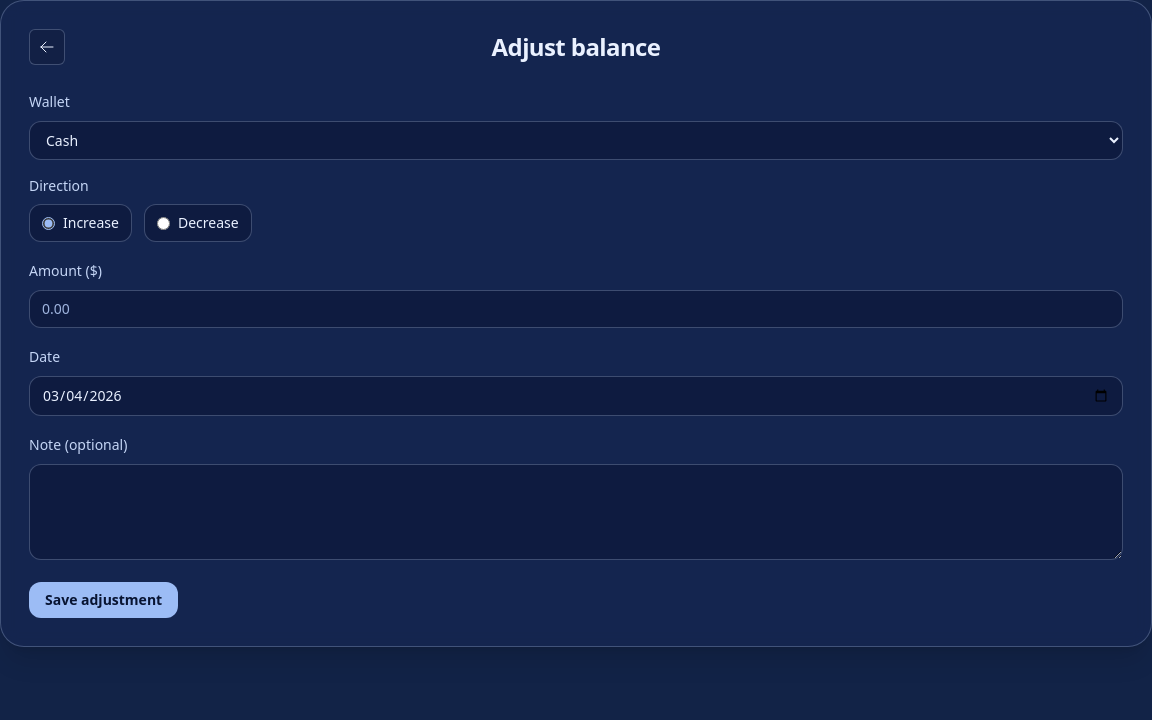
it: AddAdjustmentPage › validates non-zero amount and saves a decrease adjustment transaction
The width and height of the screenshot is (1152, 720).
In the field labelled "Amount ($)": (576, 309) [29,290,1123,328], type "0"
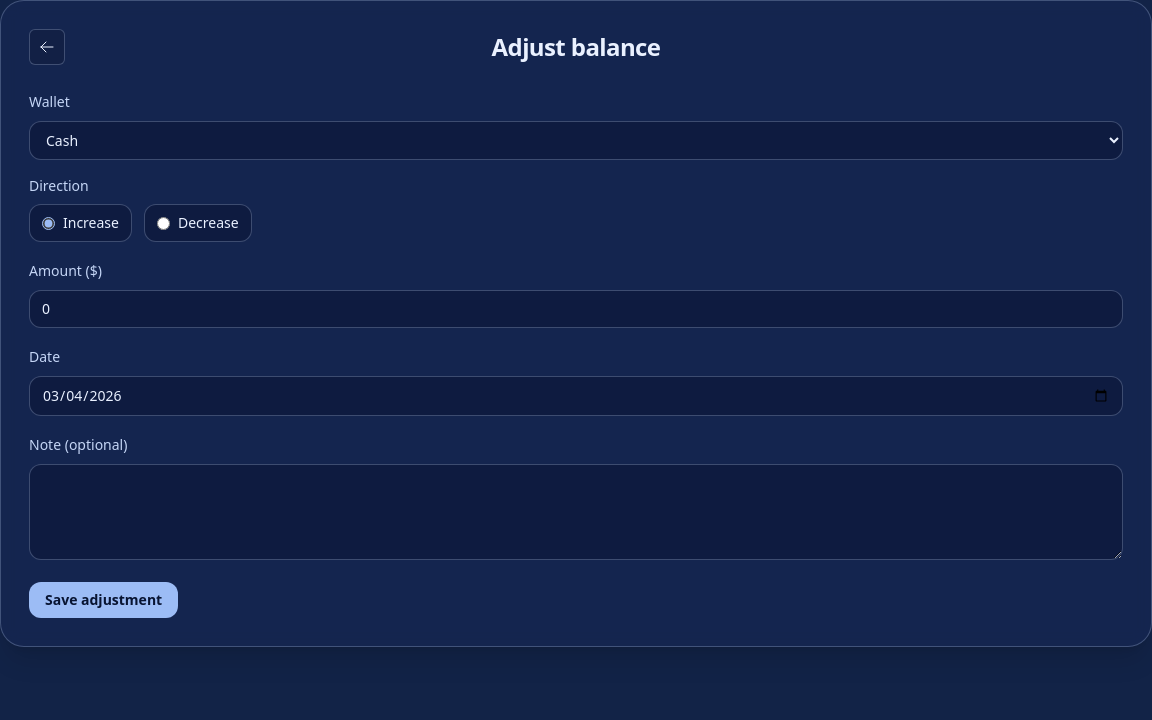
Click the button "Save adjustment": (104, 600) [29,582,178,618]
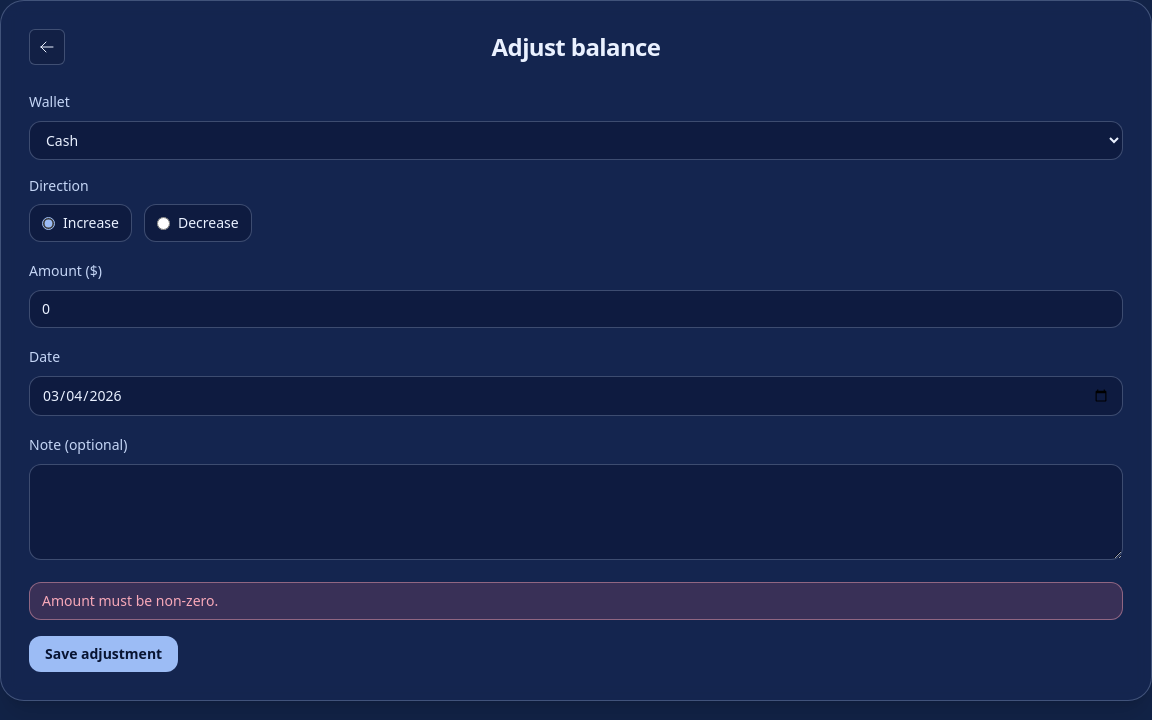
Now the text "Amount must be non-zero." is shown, box [29,582,1123,620]
Click the radio button labelled "Decrease": (164, 223) [157,216,170,230]
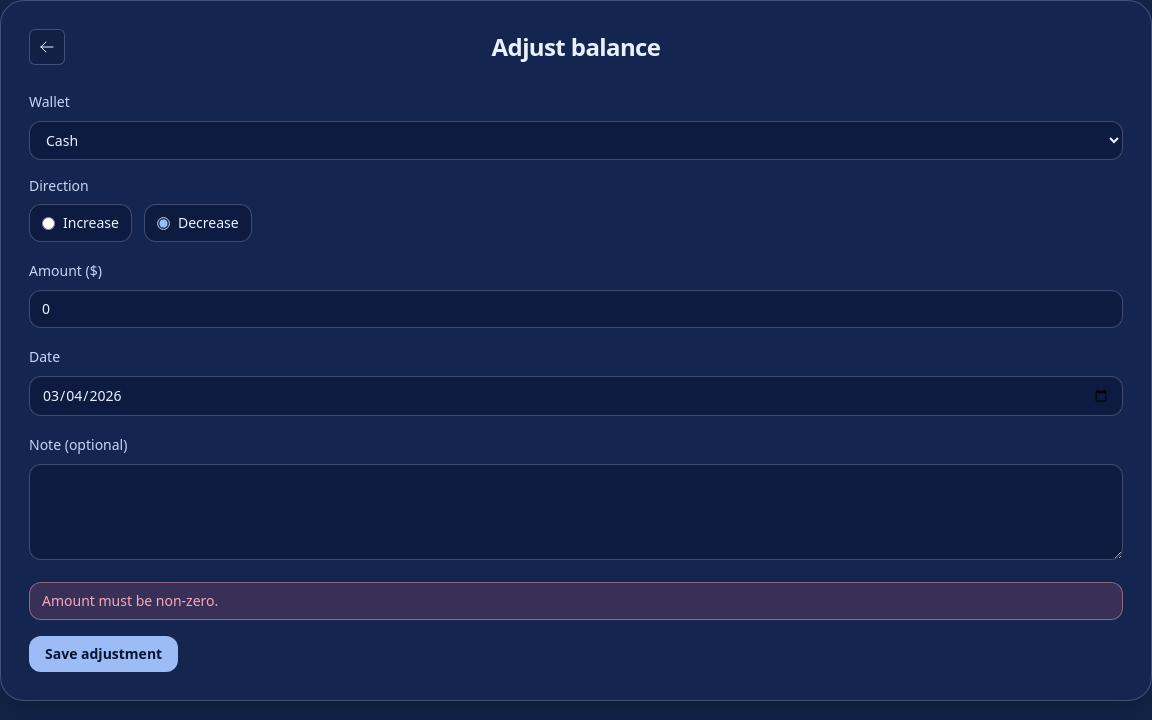
Replace the text in the field labelled "Amount ($)" with "10.00": (576, 309) [29,290,1123,328]
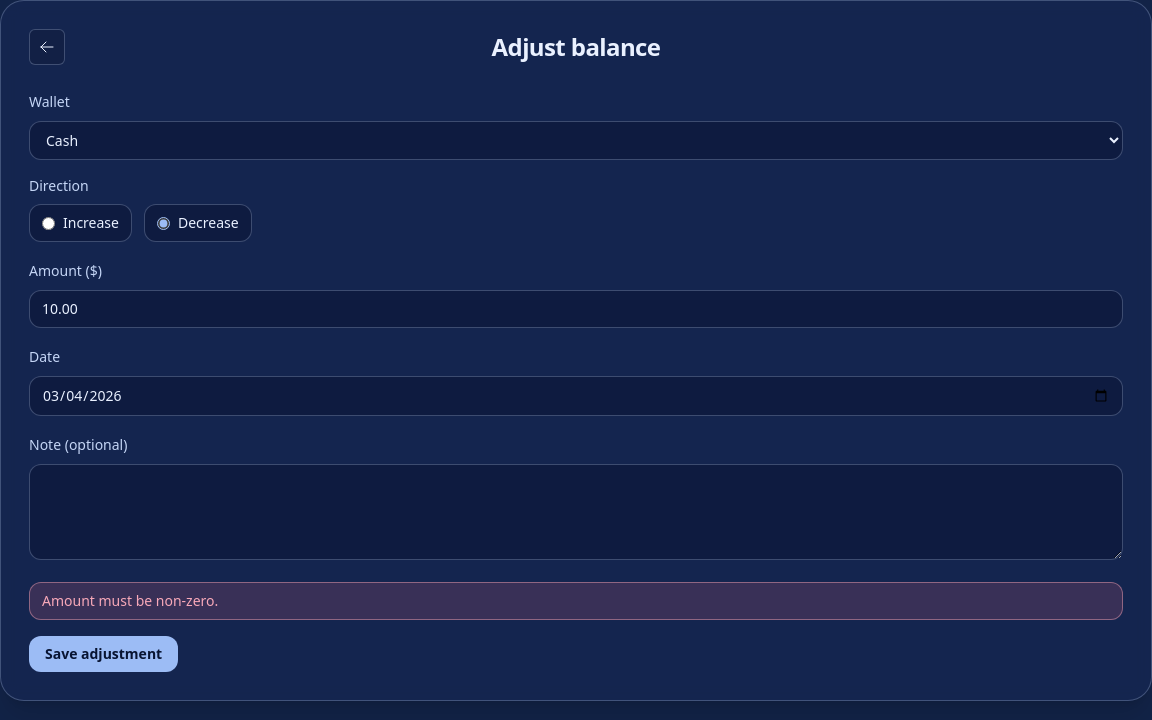
In the date field labelled "Date": (576, 396) [29,376,1123,416], type "2026-02-20"
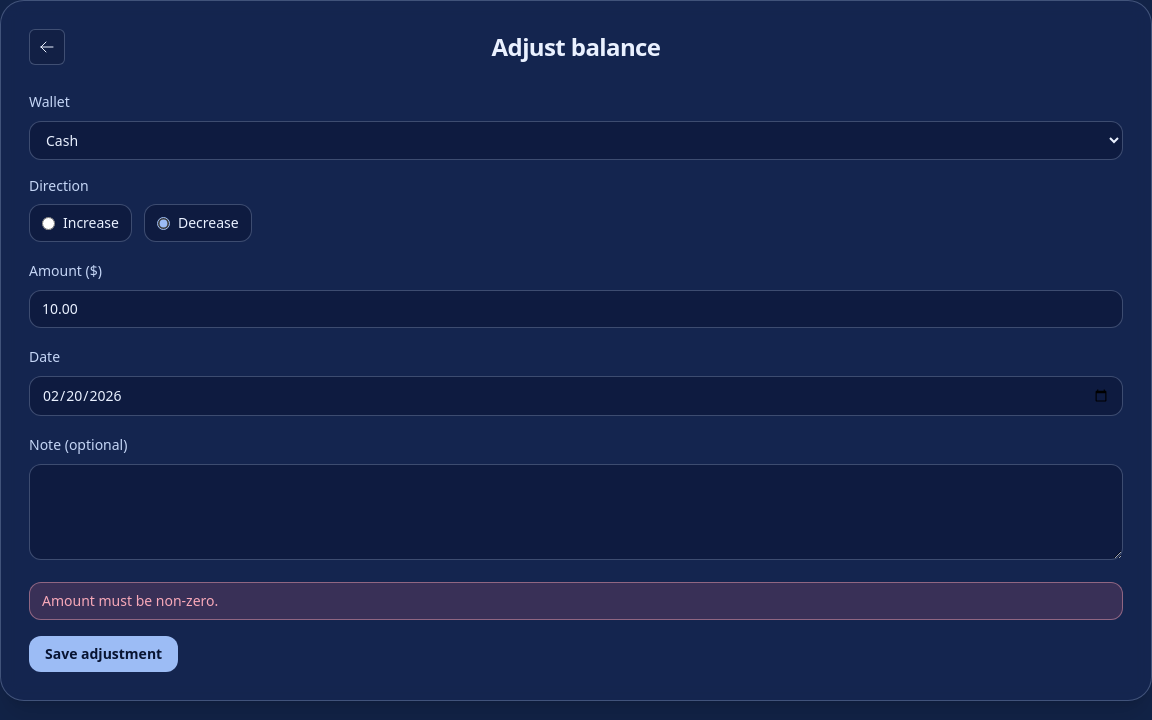
Click the button "Save adjustment": (104, 654) [29,636,178,672]
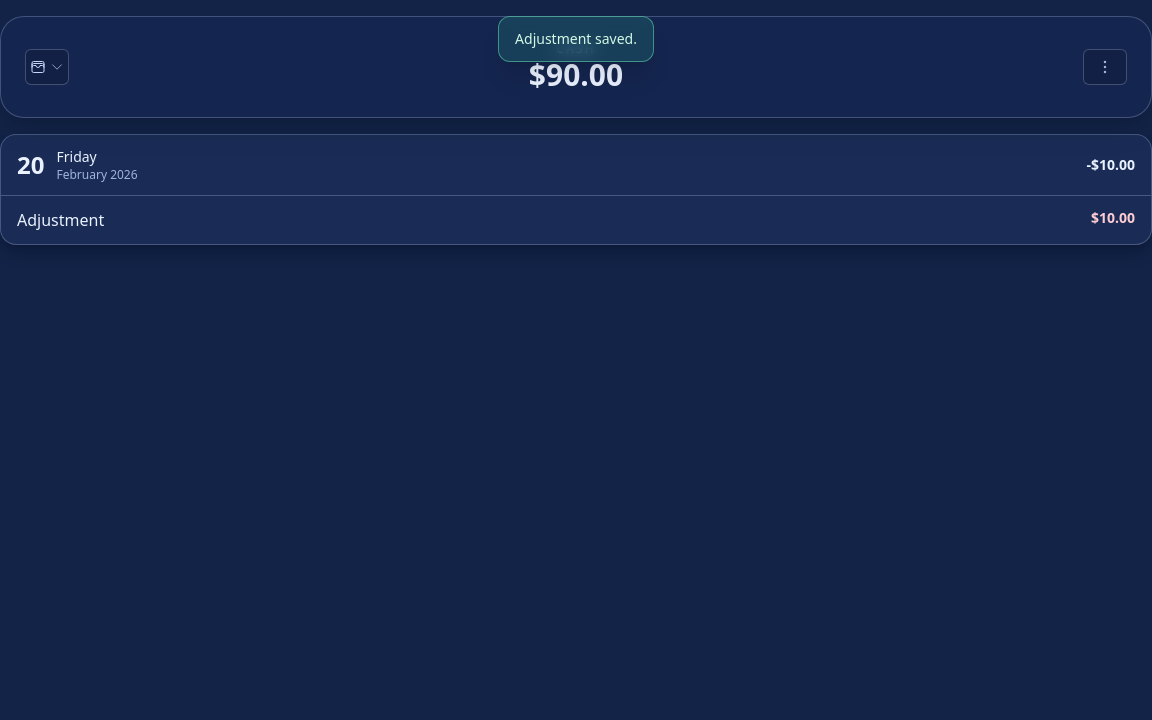
Now the text "Adjustment saved." is shown, box [498,16,654,62]
Now the text "$90.00" is shown, box [529,54,623,95]
Now the text "Adjustment" is shown, box [17,208,104,232]
